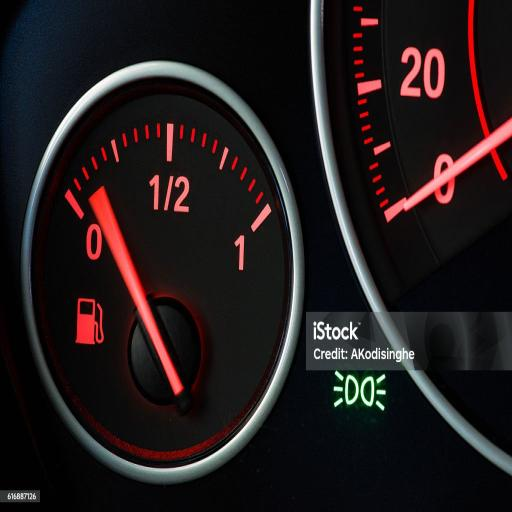empty: (86, 222, 106, 264)
fuel_icon: (73, 295, 103, 349)
full: (230, 230, 248, 277)
guage_area: (64, 123, 274, 422)
needle_center: (132, 301, 195, 408)
needle_tip: (84, 181, 116, 215)
